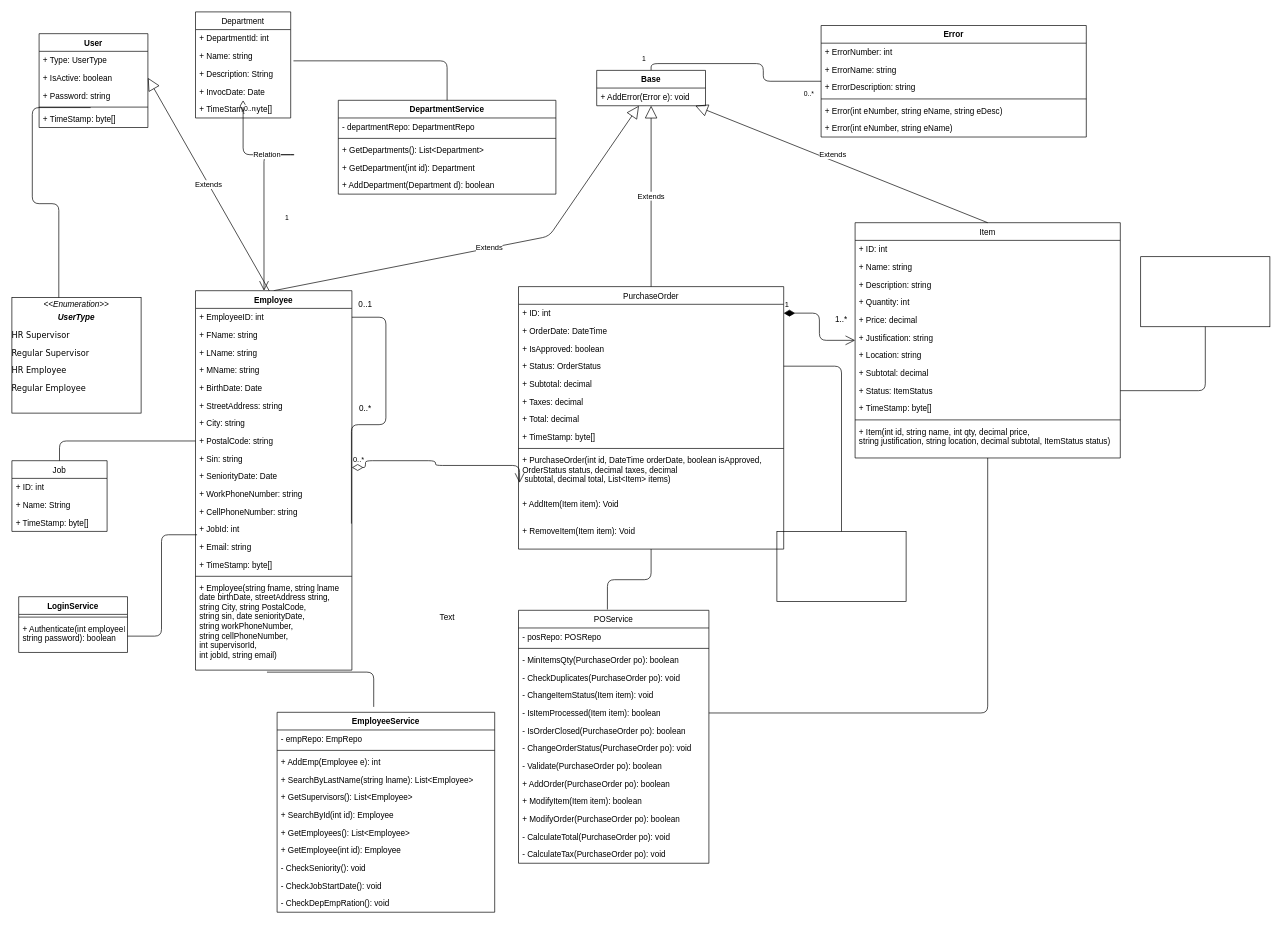
This 1282x926 diagram has some shape labels left out. Each missing label, with the centre of its shape:
<<Enumeration>> ItemStatus Pending Approved Denied: [1205,291]
<<Enumeration>> OrderStatus Pending UnderReview Closed: [841,566]
